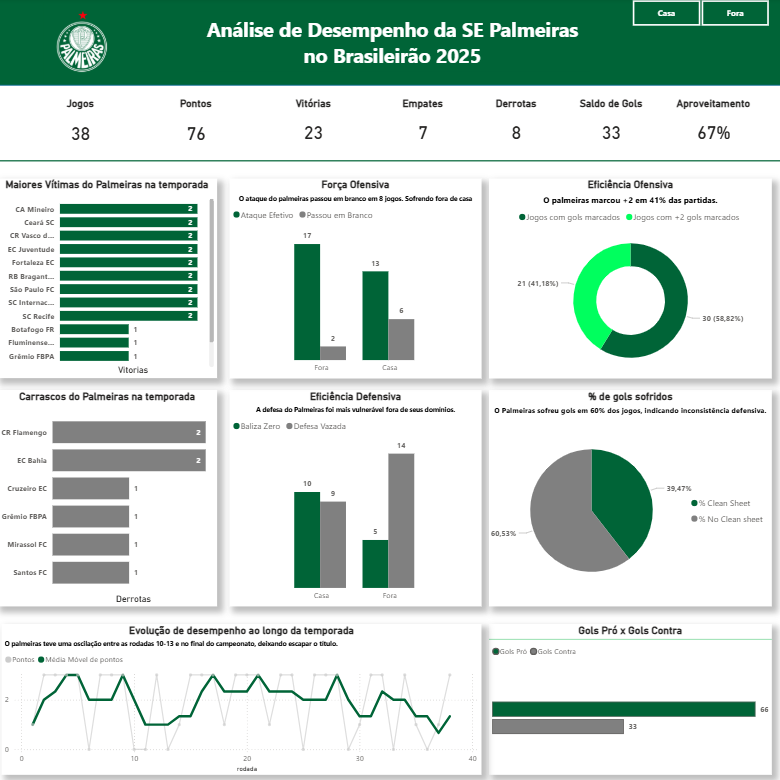

The dashboard page shown, as its layout file describes it:
{"tool":"powerbi","page":{"name":"Temporada 2025","canvas":[1280,1280],"ordinal":0},"visuals":[{"type":"card","title":"Pontos","fields":{"Values":["Sum(palmeiras_casa_fora_historico.pontos_total)"]},"box":[233.1,164.2,178.3,93.8],"z":0},{"type":"card","title":"Vitórias","fields":{"Values":["Sum(palmeiras_casa_fora_historico.vitorias)"]},"box":[422.3,164.2,184.6,92.3],"z":1000},{"type":"card","title":"Empates","fields":{"Values":["Sum(palmeiras_casa_fora_historico.empates)"]},"box":[617.8,164.2,150.2,92.3],"z":2000},{"type":"card","title":"Derrotas","fields":{"Values":["Sum(palmeiras_casa_fora_historico.derrotas)"]},"box":[768,164.2,151.7,92.3],"z":3000},{"type":"card","title":"Saldo de Gols","fields":{"Values":["Sum(palmeiras_jogos_historico.saldo_de_gols)"]},"box":[919.7,164.2,158,92.3],"z":4000},{"type":"card","title":"Aproveitamento ","fields":{"Values":["Medidas.Aproveitamento"]},"box":[1077.7,164.2,173.6,92.3],"z":5000},{"type":"card","title":"Jogos","fields":{"Values":["Medidas.numero_jogos"]},"box":[46.9,164.2,178.3,93.8],"z":6000},{"type":"shape","box":[0,0,1279.5,143.8],"z":7000},{"type":"slicer","fields":{"Values":["palmeiras_jogos_historico.local_jogo"]},"box":[1010,0,269.5,51.5],"z":8000},{"type":"clusteredBarChart","title":"Gols Pró x Gols Contra","fields":{"Y":["Sum(palmeiras_jogos_historico.gols_pro)","Sum(palmeiras_jogos_historico.gols_contra)"]},"box":[800.8,1019.8,459.9,245.6],"z":9000},{"type":"lineChart","title":"Evolução de desempenho ao longo da temporada","fields":{"Y":["Sum(palmeiras_jogos_historico.pontos)","Medidas.Media Movel 3"],"Category":["palmeiras_jogos_historico.rodada"]},"box":[6.3,1019.8,780.5,245.6],"z":10000},{"type":"clusteredBarChart","title":"Maiores Vítimas do Palmeiras na temporada","fields":{"Y":["Medidas.Vitorias"],"Category":["palmeiras_jogos_historico.Adversario"]},"box":[0,296.3,357.7,324.4],"z":11000},{"type":"clusteredBarChart","title":"Carrascos do Palmeiras na temporada","fields":{"Y":["Medidas.Derrotas"],"Category":["palmeiras_jogos_historico.Adversario"]},"box":[0,639.7,358.2,351.9],"z":12000},{"type":"image","box":[46.9,0,186.2,143.8],"z":13000},{"type":"textbox","box":[322.5,24.2,642,96.9],"z":14000},{"type":"clusteredColumnChart","title":"Eficiência Defensiva ","fields":{"Y":["Medidas.jogos sem sofrer gol","Medidas.jogos_defesa_vazada"],"Category":["palmeiras_jogos_historico.local_jogo"]},"box":[377,639.7,409.8,351.9],"z":15000},{"type":"pieChart","title":"% de gols sofridos ","fields":{"Y":["Medidas.%clean sheet","Medidas.% no clean sheet"]},"box":[800.8,639.7,459.9,351.9],"z":16000},{"type":"clusteredColumnChart","title":"Força Ofensiva ","fields":{"Y":["Medidas.Jogos_gols_marcados","Medidas.Jogos Sem Marcar"],"Category":["palmeiras_jogos_historico.local_jogo"]},"box":[377,294.1,409.8,325.3],"z":17000},{"type":"donutChart","title":"Eficiência Ofensiva ","fields":{"Y":["Medidas.Jogos_marcando_gols","Medidas.Jogos +2 Gols"]},"box":[800.8,294.1,459.9,325.3],"z":18000},{"type":"shape","box":[0,258.1,1279.5,15.6],"z":19000}]}

Visuals, with their boxes in screenshot pixels (x1, y1, x2, y2), scaled from the page's 1280x1280 canvas onto the 780x780 screenshot:
"Pontos" card: [142, 100, 251, 157]
"Vitórias" card: [257, 100, 370, 156]
"Empates" card: [376, 100, 468, 156]
"Derrotas" card: [468, 100, 560, 156]
"Saldo de Gols" card: [560, 100, 657, 156]
"Aproveitamento " card: [657, 100, 763, 156]
"Jogos" card: [29, 100, 137, 157]
shape: [0, 0, 779, 88]
slicer - palmeiras_jogos_historico.local_jogo: [615, 0, 779, 31]
"Gols Pró x Gols Contra" clusteredBarChart: [488, 621, 768, 771]
"Evolução de desempenho ao longo da temporada" lineChart: [4, 621, 479, 771]
"Maiores Vítimas do Palmeiras na temporada" clusteredBarChart: [0, 181, 218, 378]
"Carrascos do Palmeiras na temporada" clusteredBarChart: [0, 390, 218, 604]
image: [29, 0, 142, 88]
textbox: [197, 15, 588, 74]
"Eficiência Defensiva " clusteredColumnChart: [230, 390, 479, 604]
"% de gols sofridos " pieChart: [488, 390, 768, 604]
"Força Ofensiva " clusteredColumnChart: [230, 179, 479, 377]
"Eficiência Ofensiva " donutChart: [488, 179, 768, 377]
shape: [0, 157, 779, 167]
